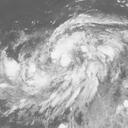cyclone: (31, 15, 106, 101)
